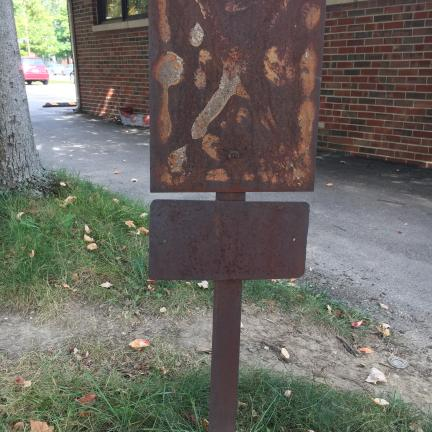karat: (149, 0, 325, 191), (150, 201, 308, 279), (209, 280, 242, 431)
